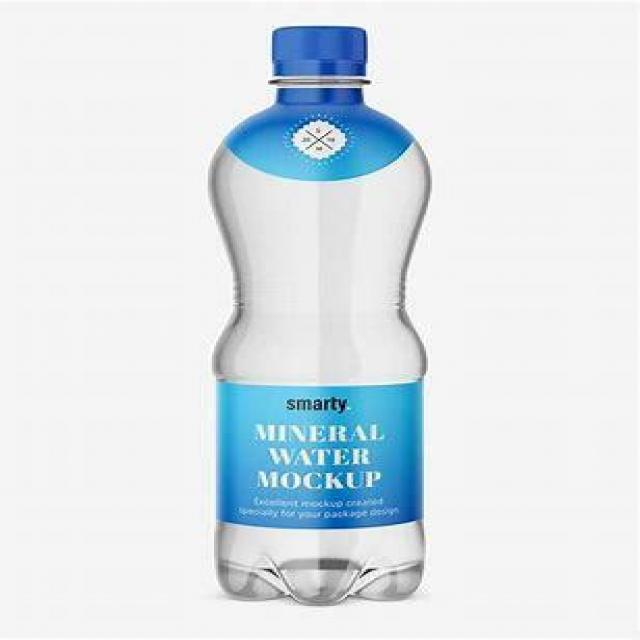bottle: (176, 7, 449, 606)
